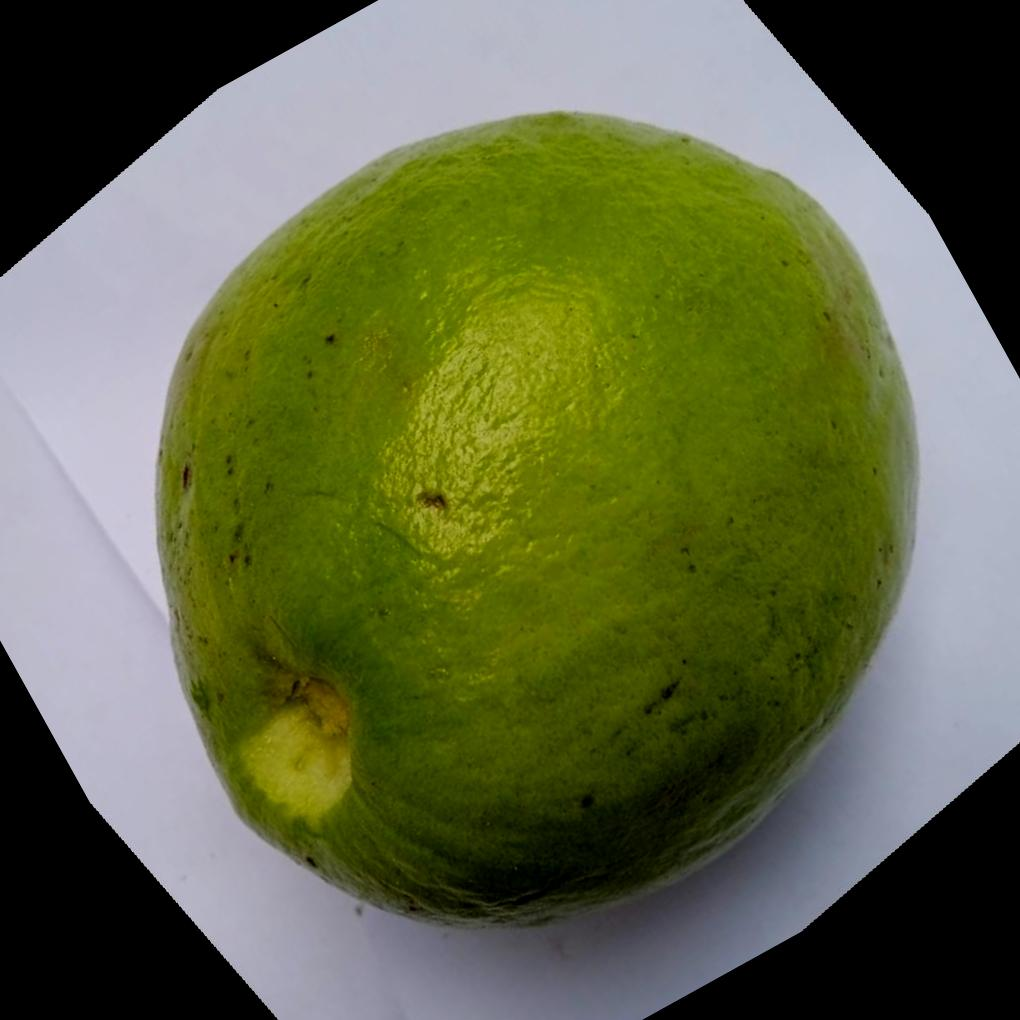FreshGuava: (148, 110, 918, 932)
